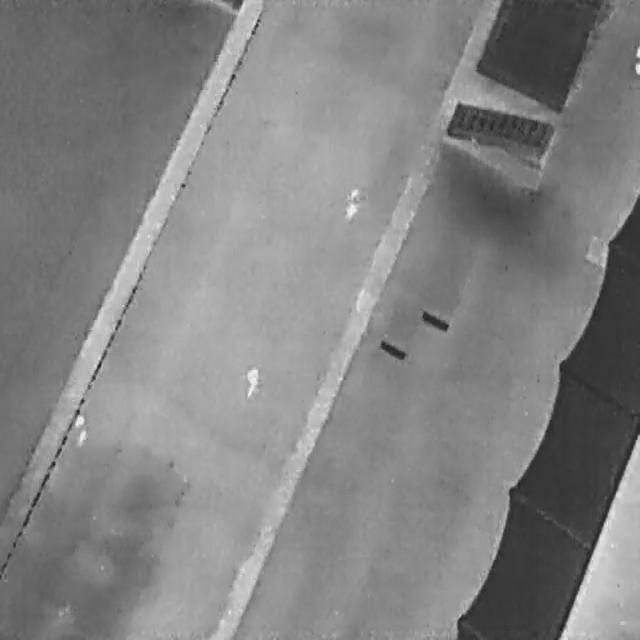Person: (341, 182, 363, 222), (242, 361, 262, 401), (73, 410, 87, 445)
